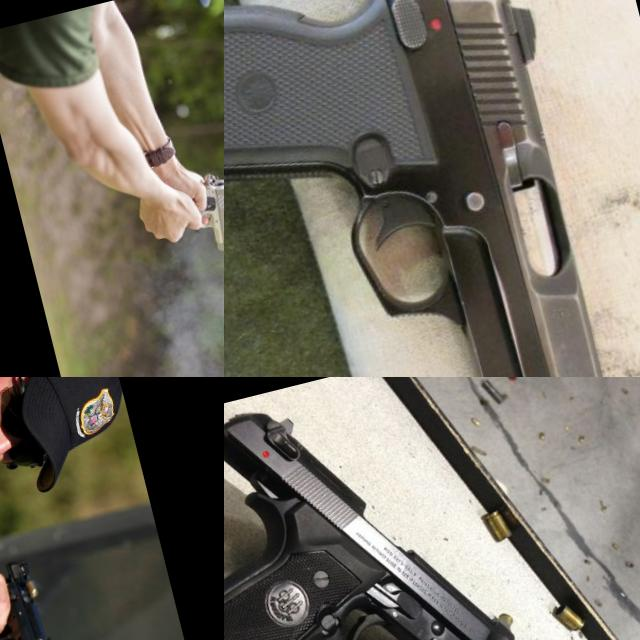handgun: (224, 0, 640, 377), (224, 377, 594, 640), (0, 552, 77, 640), (173, 166, 224, 262)
